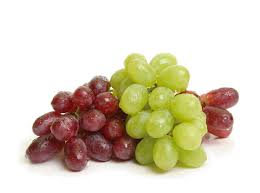Green grapes: (125, 65, 208, 163)
Red Grapes: (40, 87, 122, 163)
